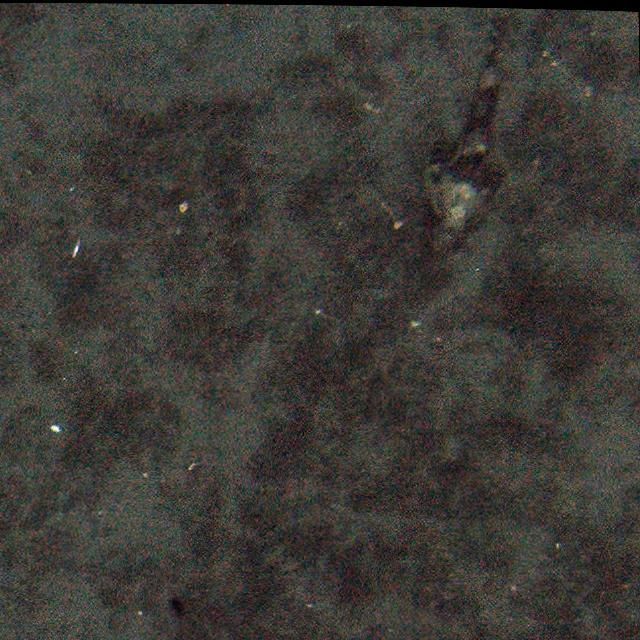roundfish: (401, 36, 514, 262)
